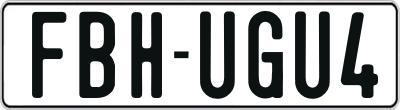4: (341, 9, 383, 100)
B: (79, 9, 121, 95)
F: (30, 11, 67, 103)
G: (248, 8, 286, 100)
H: (130, 11, 162, 99)
U: (200, 9, 237, 99), (292, 10, 328, 101)
